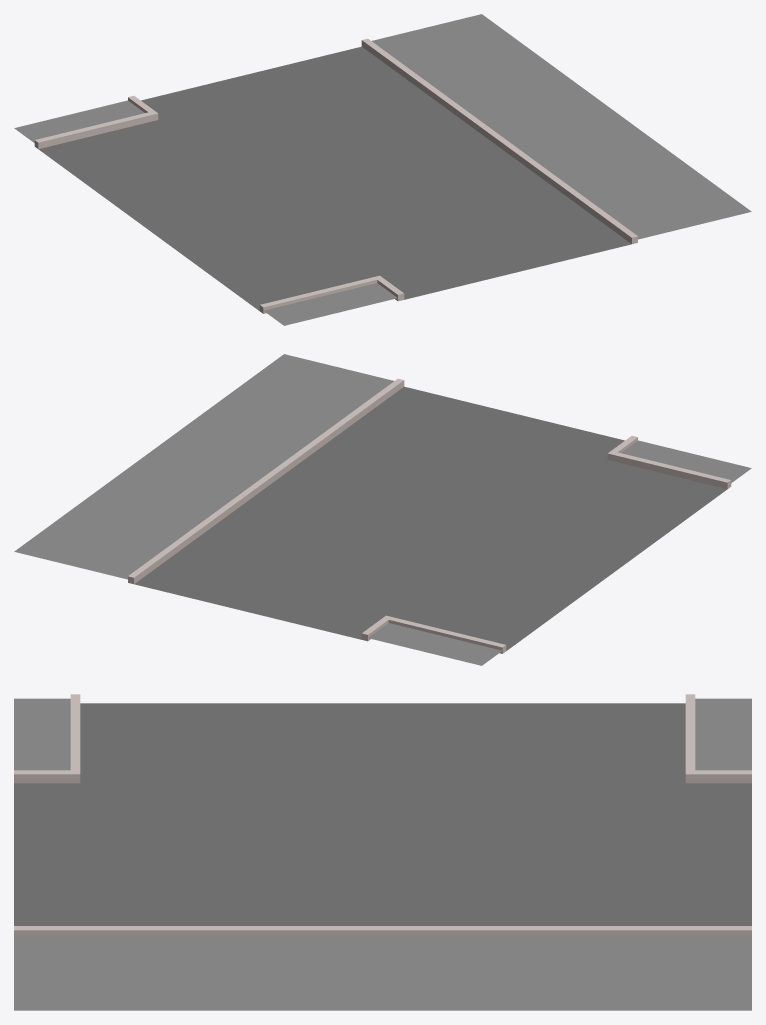
Rendered from road_019.fbx.
The picture shows the model from 3 angles, top to bottom: view 1: azimuth 30°, elevation 25°; view 2: azimuth 150°, elevation 25°; view 3: azimuth 270°, elevation 25°; orthographic projection. The views are drawn at different scales.
Visible parts, largest first — view 1: road_019; view 2: road_019; view 3: road_019.
Boxes of the visible parts, <box> form: road_019: <box>14,14,751,325</box>; road_019: <box>14,354,751,665</box>; road_019: <box>14,694,751,1010</box>.
Size of the model in its own units: 1500 by 20 by 1500.
